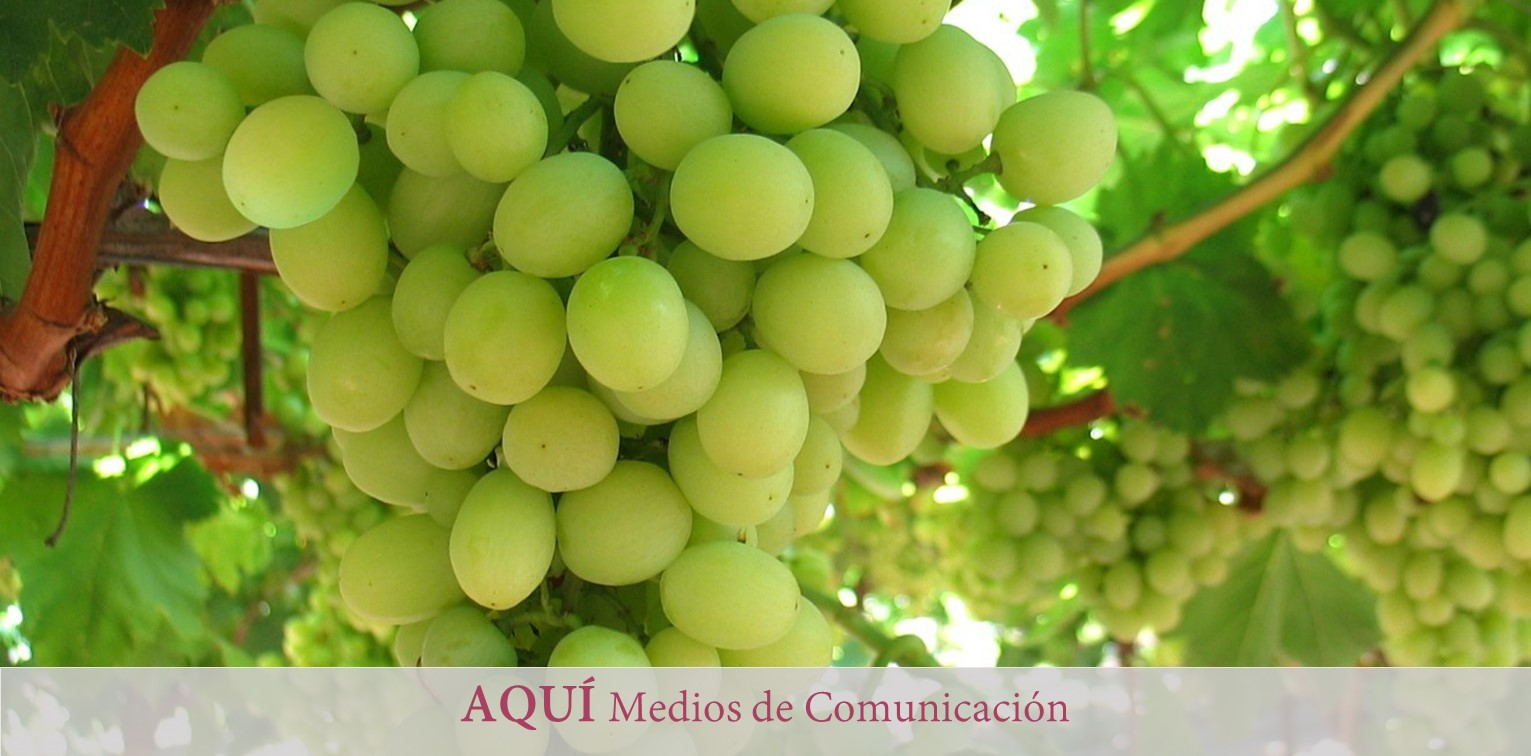Green grapes: (204, 10, 996, 641)
